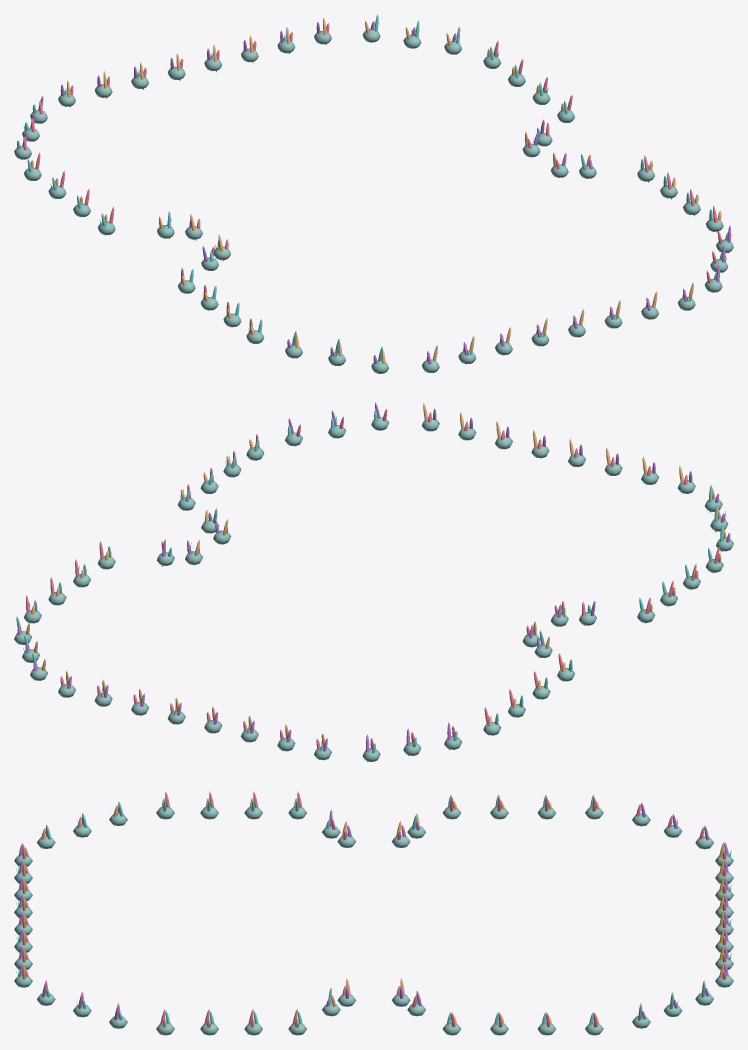
Rendered from reef-19-BfXTgYwt.glb.
3 renders of one model, top to bottom at view 1: azimuth 30°, elevation 25°; view 2: azimuth 150°, elevation 25°; view 3: azimuth 270°, elevation 25°, orthographic. The views are drawn at different scales.
Visible parts, largest first — view 1: ReefRock, Coral2, Coral0, Coral1, Coral3; view 2: ReefRock, Coral2, Coral0, Coral1, Coral3; view 3: ReefRock, Coral0, Coral2, Coral1, Coral3.
Boxes of the visible parts, x1=… form: ReefRock: x1=14, y1=29, x2=733, y2=373; Coral2: x1=30, y1=17, x2=721, y2=364; Coral0: x1=23, y1=23, x2=722, y2=360; Coral1: x1=22, y1=21, x2=731, y2=364; Coral3: x1=17, y1=14, x2=728, y2=360; ReefRock: x1=14, y1=417, x2=733, y2=761; Coral2: x1=26, y1=403, x2=726, y2=747; Coral0: x1=26, y1=409, x2=719, y2=748; Coral1: x1=17, y1=402, x2=730, y2=762; Coral3: x1=16, y1=410, x2=723, y2=753; ReefRock: x1=14, y1=807, x2=733, y2=1035; Coral0: x1=25, y1=791, x2=726, y2=1035; Coral2: x1=22, y1=798, x2=724, y2=1027; Coral1: x1=18, y1=802, x2=728, y2=1020; Coral3: x1=46, y1=794, x2=708, y2=1024.
Size of the model in its own units: 39 by 2.06 by 53.1.
